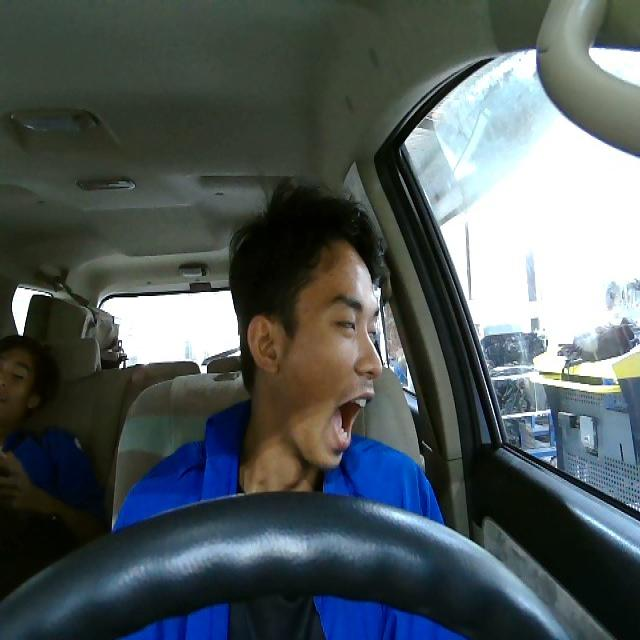yarning: (243, 237, 383, 471)
